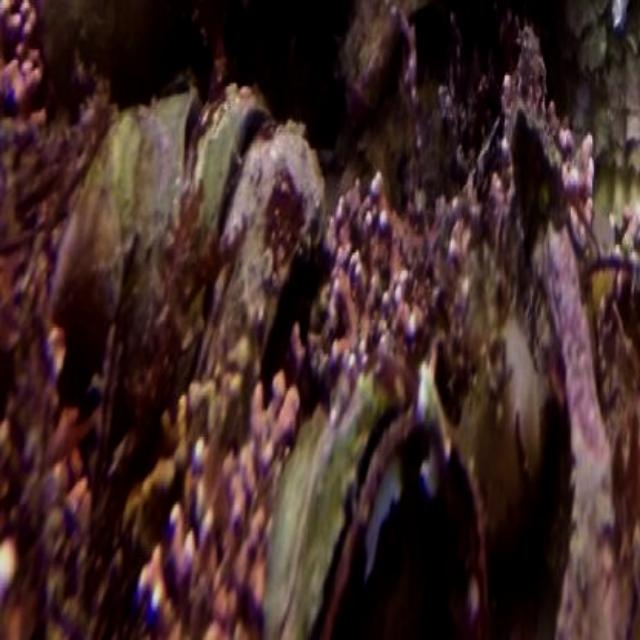Oyster-Closed: (51, 85, 202, 412), (202, 123, 328, 378)
Oyster-Open: (267, 367, 493, 638), (174, 88, 275, 388)
